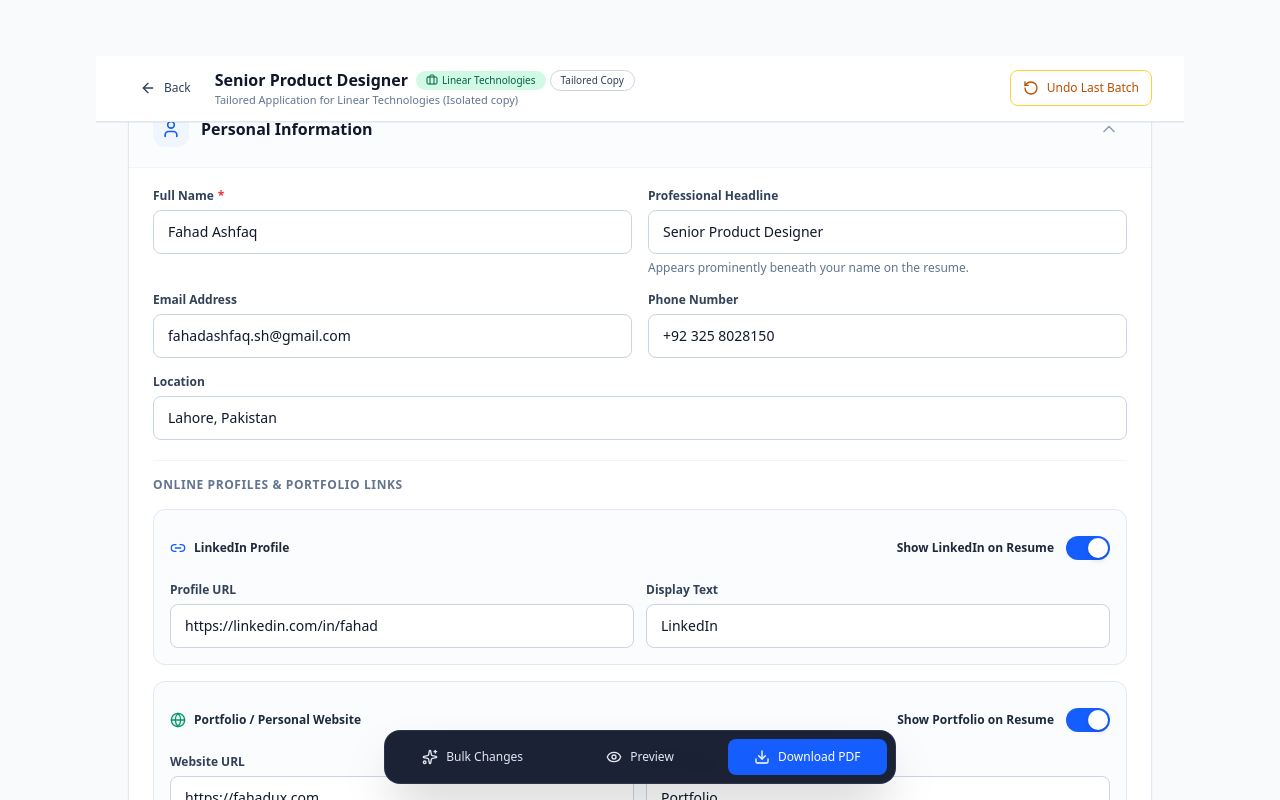
Test: Bulk Changes Integration & Review UI (Phase 5) › supports accept/reject toggles and manual target picker
The image size is (1280, 800).
Expected: the text "Linear Technologies" is shown, [442, 72, 536, 88]
Click the button "Bulk Changes": [473, 757] box [393, 739, 552, 775]
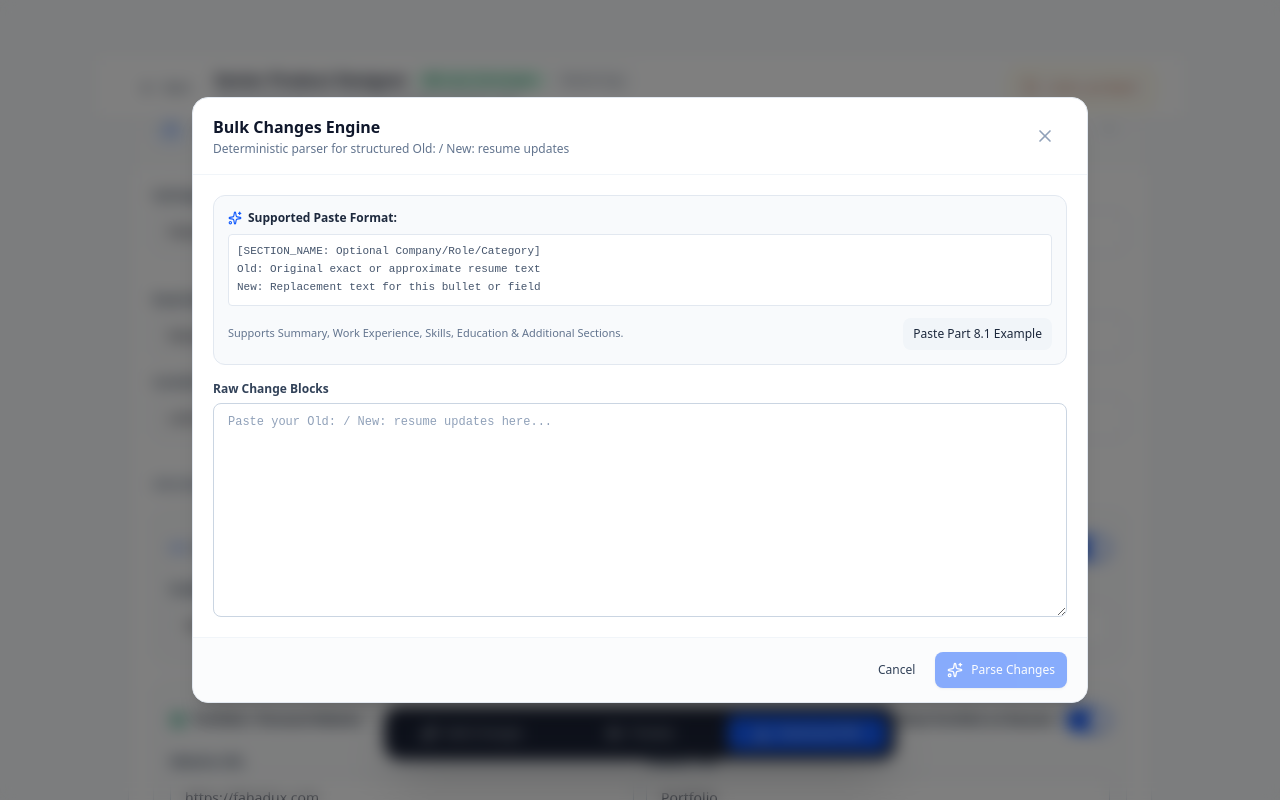
Now the heading "Bulk Changes Engine" is shown, box [213, 116, 380, 138]
In the text box with placeholder "Paste your Old: / New: resume updates here...": [640, 510] box [213, 403, 1067, 617], type "[WORK EXPERIENCE: Ghani Branding Agency] Old: Some unknown bullet that does not exist in the database New: Freshly assigned bullet text via manual picker"
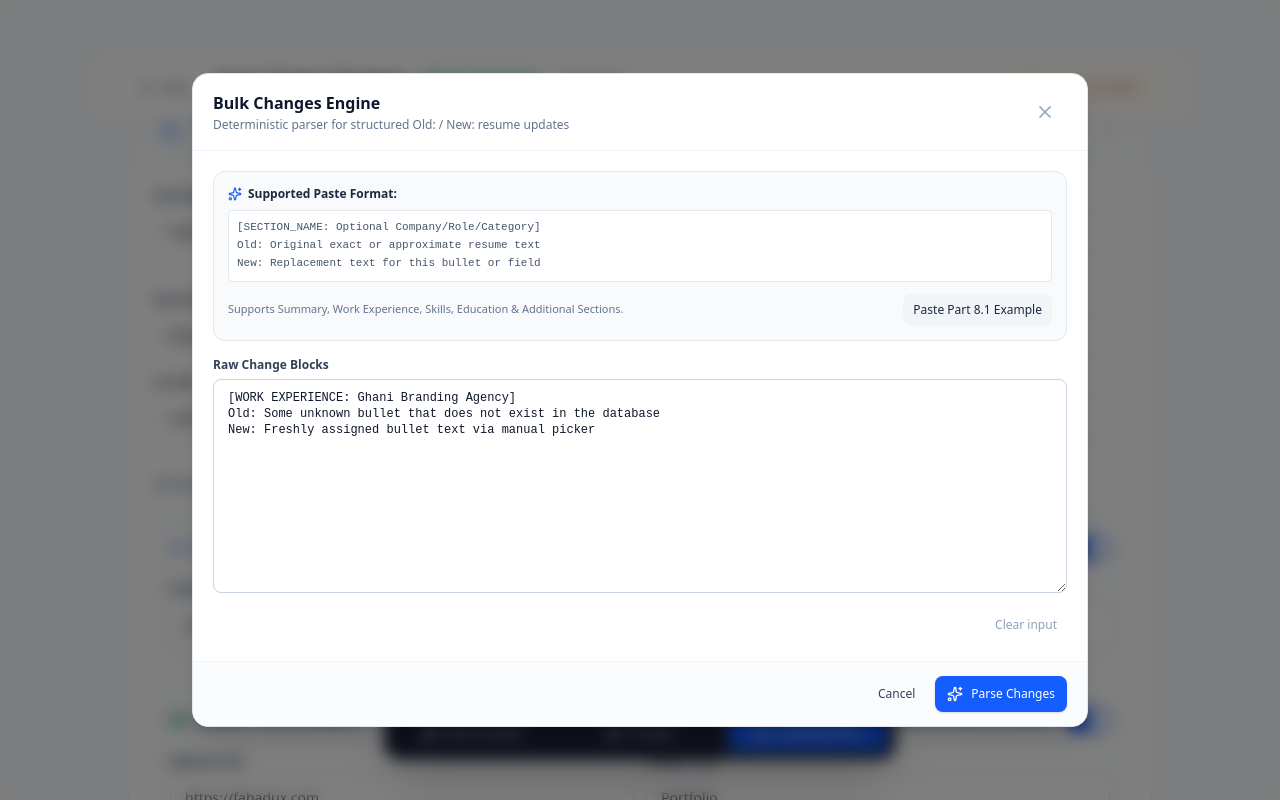
Click the button "Parse Changes": [1001, 694] box [935, 676, 1067, 712]
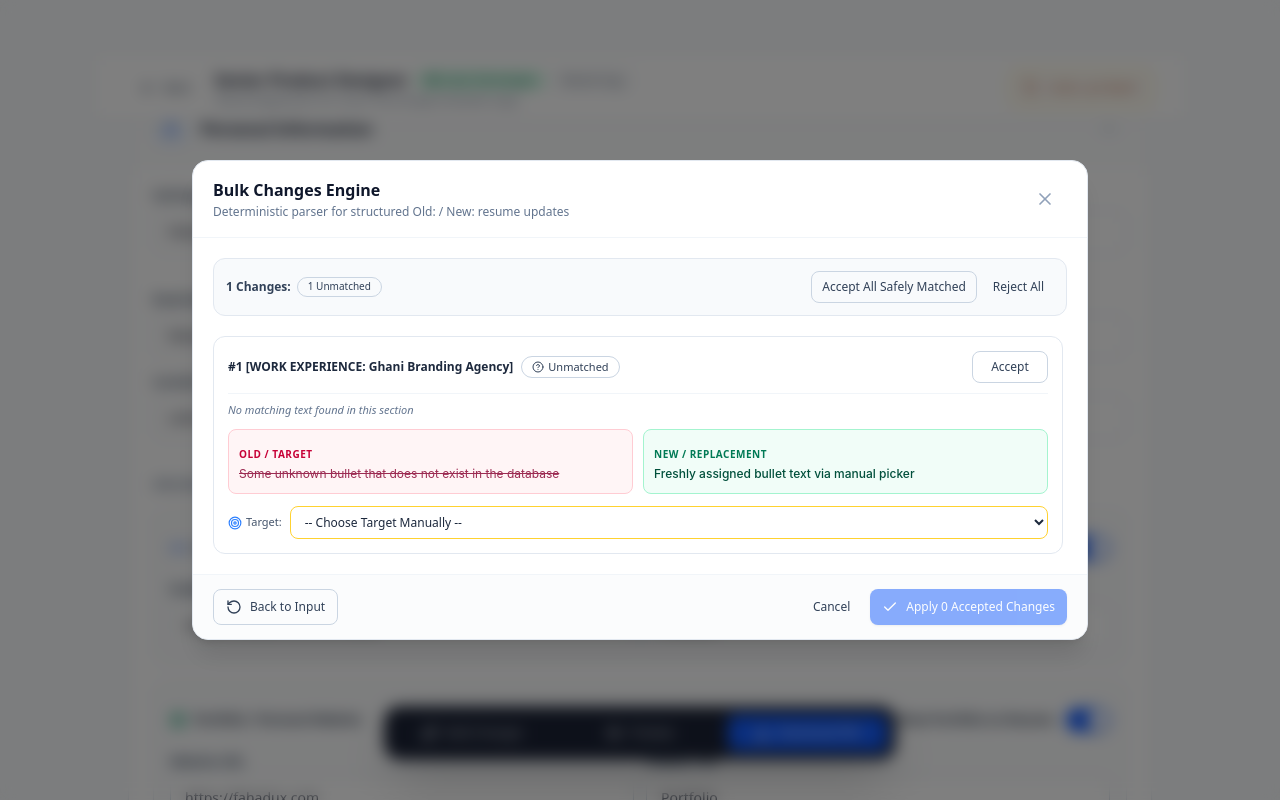
Now the text "1 Unmatched" is shown, box [297, 277, 382, 297]
Now the button "Apply 0 Accepted Changes" is disabled, box [870, 589, 1067, 625]
Now the dropdown named "target for change #1" is shown
Select the second option (first work experience candidate)
Select "[WORK EXPERIENCE] Ghani Branding Agency: \"Lead UI/UX design across digital produ" in the dropdown named "target for change #1": [669, 522] box [290, 506, 1048, 539]
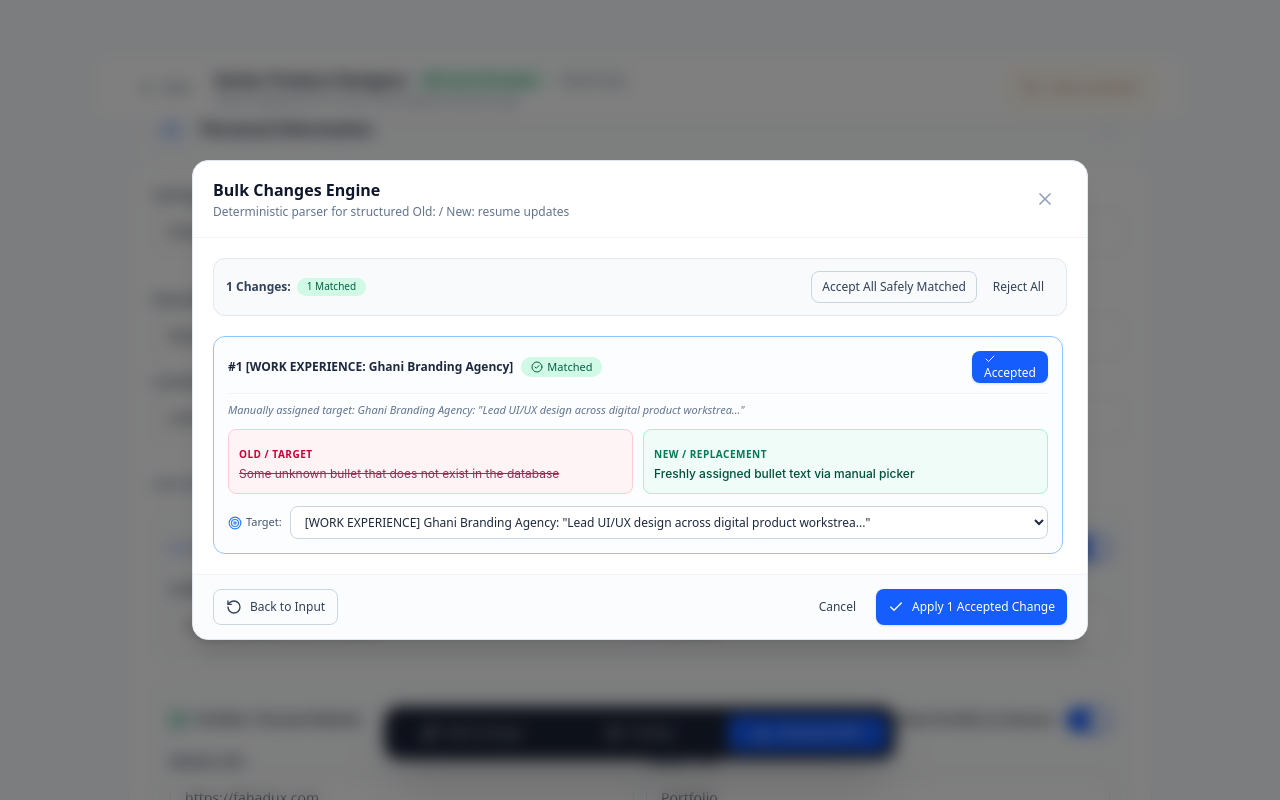
Now the text "Manually assigned target" is shown, box [228, 402, 745, 417]
Now the button "Apply 1 Accepted Change" is enabled, box [876, 589, 1067, 625]
